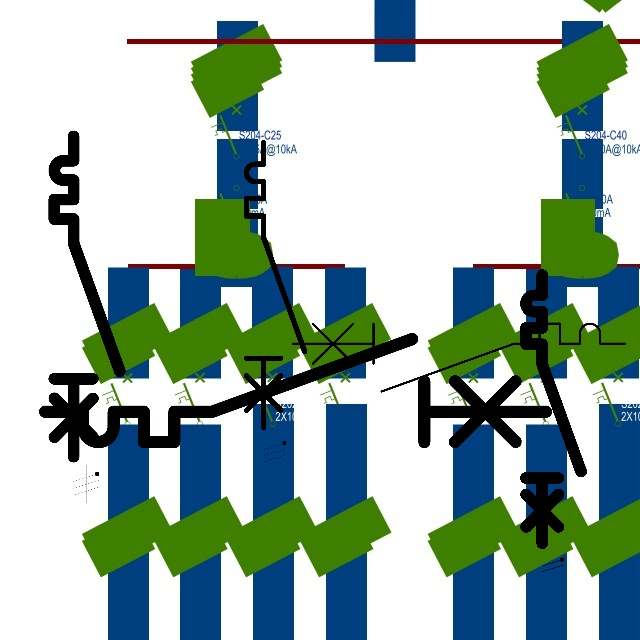interruptor_termomagnetico: (32, 326, 558, 455), (284, 315, 634, 400), (46, 128, 128, 465), (239, 135, 312, 435), (519, 268, 588, 550)
